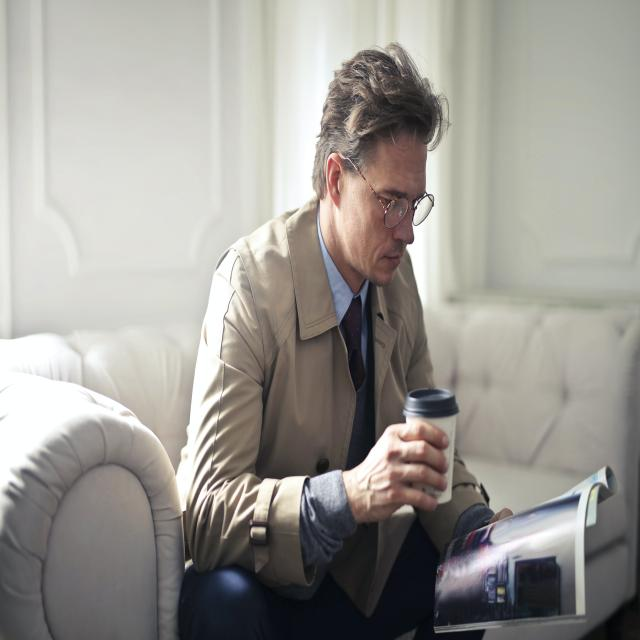cup: (401, 387, 457, 508)
